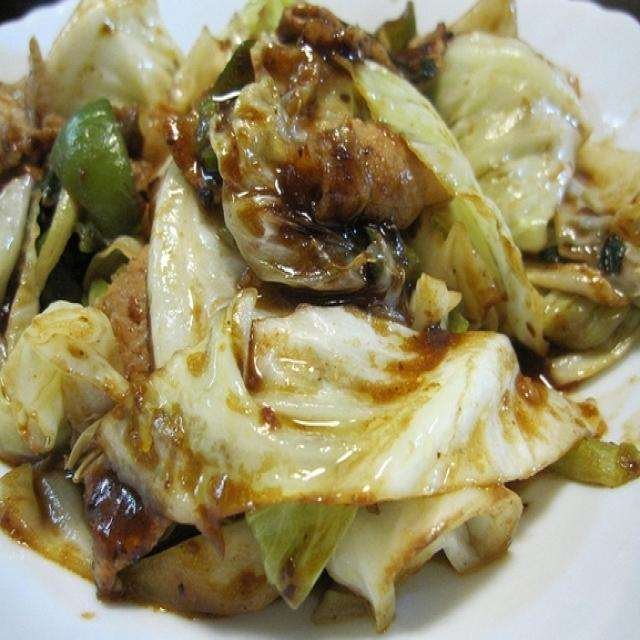猪肉菜式: (10, 7, 628, 621)
